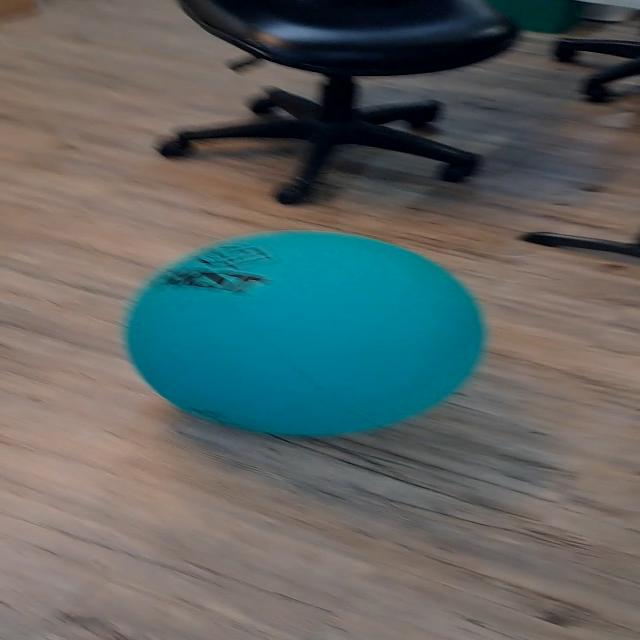ALGAE: (122, 228, 488, 437)
